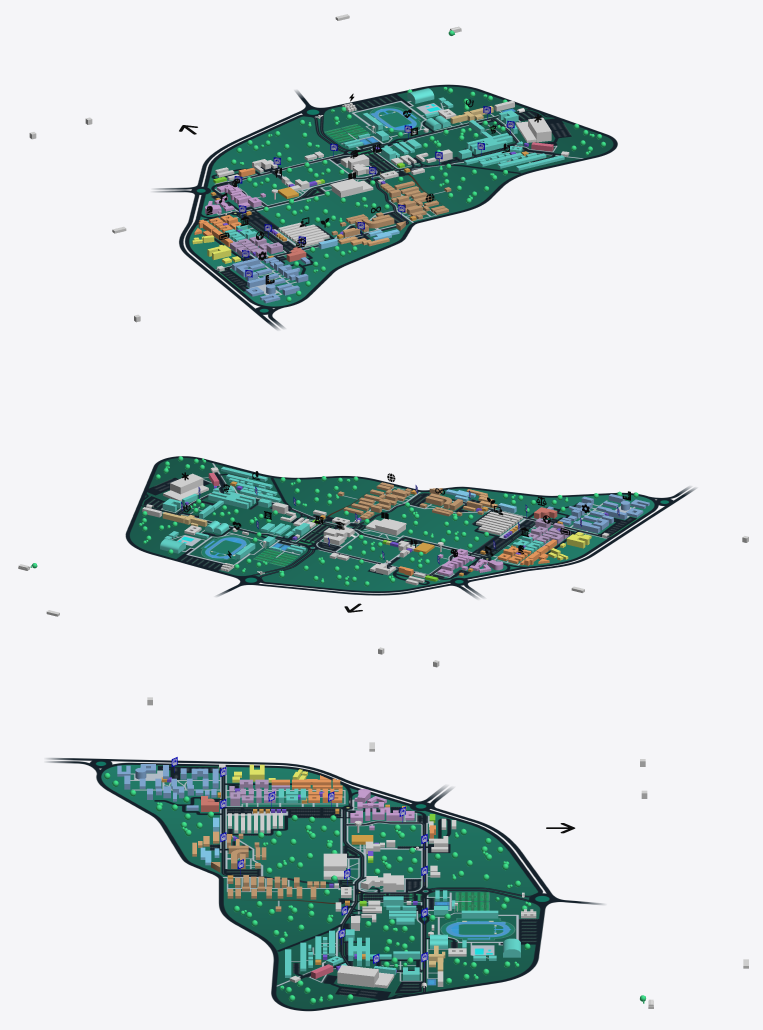
3 views of the same model, one above another, from view 1: azimuth 30°, elevation 25°; view 2: azimuth 150°, elevation 25°; view 3: azimuth 270°, elevation 25° (orthographic). The views are drawn at different scales.
Visible parts, largest first — view 1: 22_map_3d_2000p_base_jp, meccs, metrees, meccen, mect, mebus, mecchla, meccta, meuf, meca, meccsa, mehu (+1 smaller); view 2: 22_map_3d_2000p_base_jp, meccs, metrees, meccen, mect, mecchla, meccta, meuf, mehu, meca, meccsa; view 3: 22_map_3d_2000p_base_jp, meccs, metrees, meccen, mect, mecchla, meccta, mebus, mehu, meccsa, meuf, meca (+2 smaller).
Part boxes in pixels (<box>): 22_map_3d_2000p_base_jp: <box>155,84,617,329</box>; meccs: <box>343,88,564,170</box>; metrees: <box>231,30,605,302</box>; meccen: <box>331,181,451,237</box>; mect: <box>232,257,310,303</box>; mebus: <box>234,106,514,280</box>; mecchla: <box>194,168,255,246</box>; meccta: <box>205,184,265,214</box>; meuf: <box>29,14,428,322</box>; meca: <box>278,222,329,247</box>; meccsa: <box>228,236,282,257</box>; mehu: <box>516,117,551,142</box>; 22_map_3d_2000p_base_jp: <box>125,456,696,598</box>; meccs: <box>160,467,309,559</box>; metrees: <box>30,456,638,586</box>; meccen: <box>337,482,483,519</box>; mect: <box>547,494,649,533</box>; mecchla: <box>398,539,556,575</box>; meccta: <box>437,548,503,576</box>; meuf: <box>46,509,748,667</box>; mehu: <box>163,473,208,501</box>; meca: <box>476,511,522,535</box>; meccsa: <box>528,518,570,546</box>; 22_map_3d_2000p_base_jp: <box>47,758,602,1011</box>; meccs: <box>285,890,520,980</box>; metrees: <box>104,773,645,1004</box>; meccen: <box>211,833,325,911</box>; mect: <box>117,764,218,810</box>; mecchla: <box>271,775,435,838</box>; meccta: <box>350,789,414,830</box>; mebus: <box>171,757,427,967</box>; mehu: <box>337,965,394,988</box>; meccsa: <box>229,779,289,805</box>; meuf: <box>147,697,748,968</box>; meca: <box>228,813,282,833</box>.
Bounding box in the file's own units: 23.58 × 0.7974 × 23.43.
67 materials, 27 textured.
